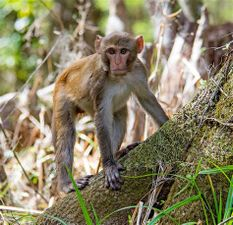monkey: (21, 13, 195, 176)
